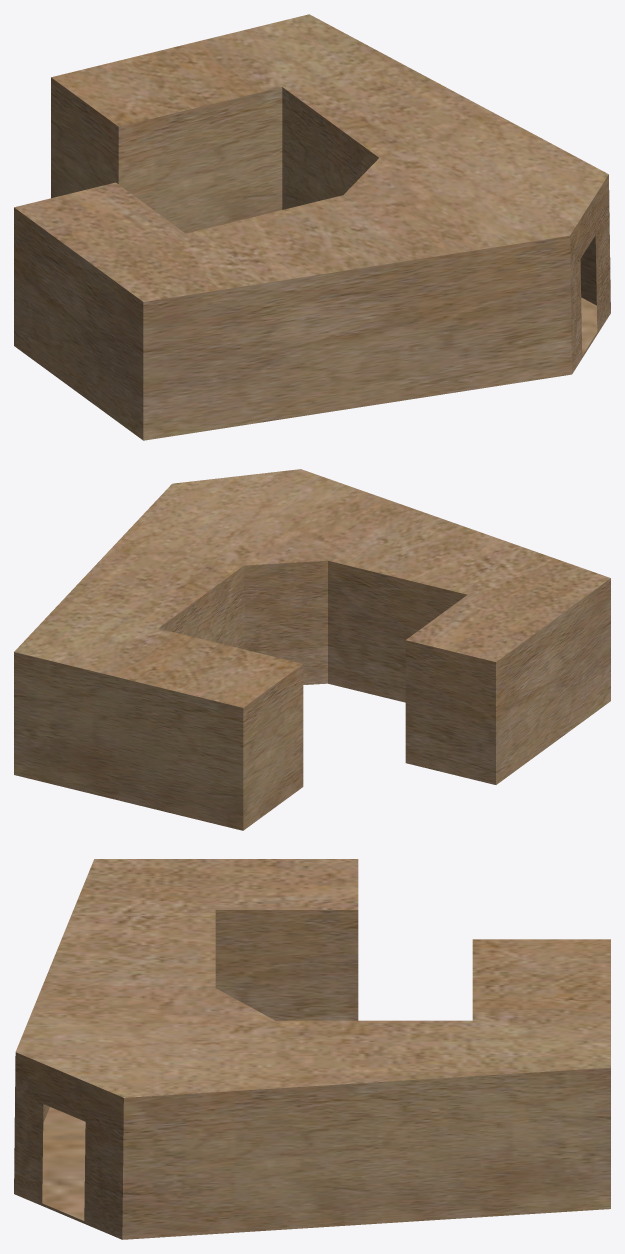
Rendered from thm_tato_imprv_building_s04_r1_foyer_mesh_l1.fbx.
The picture shows the model from 3 angles, top to bottom: view 1: azimuth 30°, elevation 25°; view 2: azimuth 150°, elevation 25°; view 3: azimuth 270°, elevation 25°; orthographic projection. The views are drawn at different scales.
Parts seen in each view (by area): view 1: mesh_node; view 2: mesh_node; view 3: mesh_node.
Part boxes in pixels (x1=…): mesh_node: x1=14, y1=14, x2=610, y2=440; mesh_node: x1=14, y1=469, x2=610, y2=830; mesh_node: x1=14, y1=859, x2=610, y2=1239.
Size of the model in its own units: 16.3 by 4.49 by 17.17.
